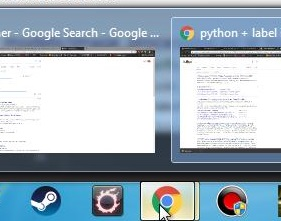cursor: (158, 202, 171, 220)
